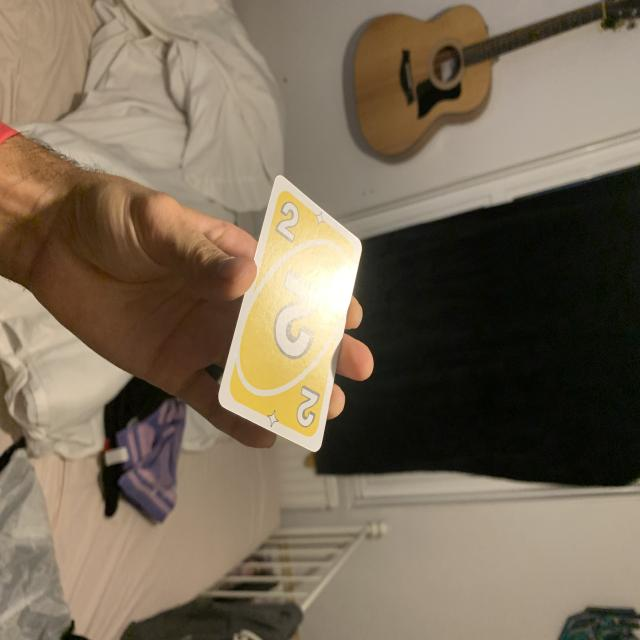lyellow-2: (272, 198, 304, 249)
